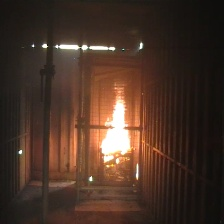fire: (99, 96, 133, 166)
